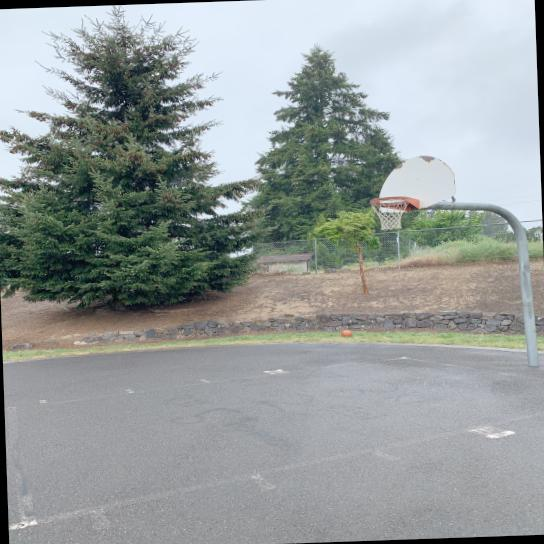basketball-hoop: (368, 196, 414, 232)
